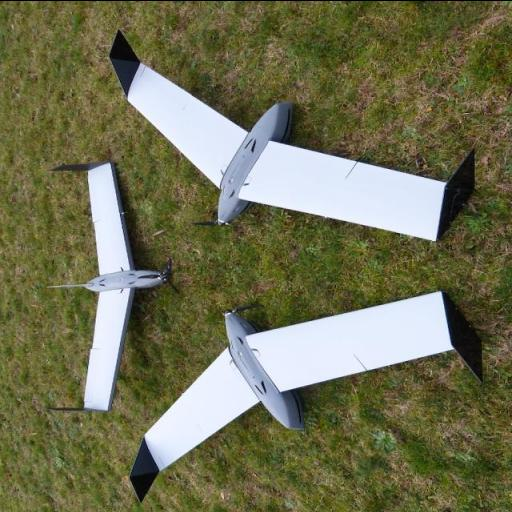uav: (42, 134, 172, 420)
